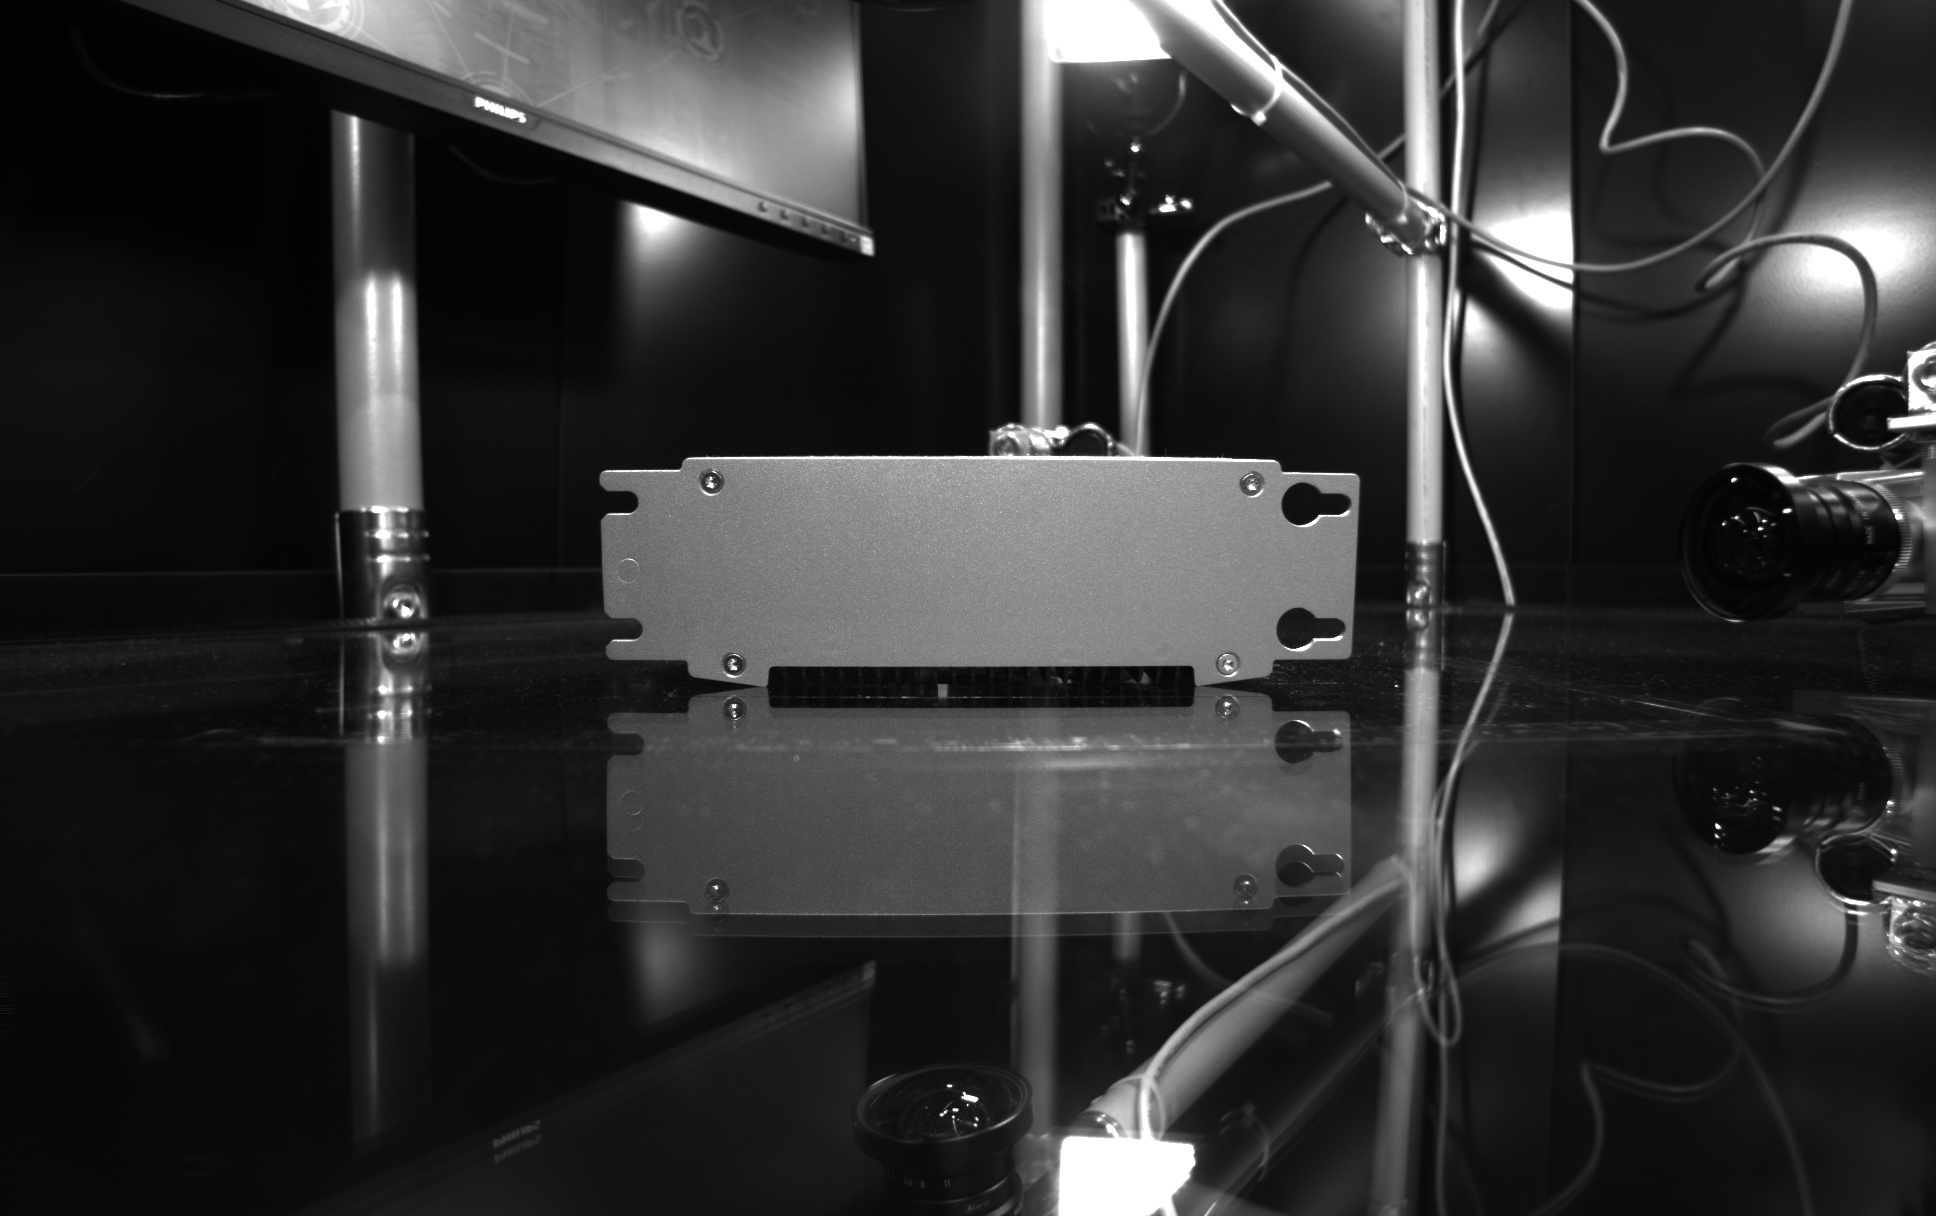CamBack: (573, 429, 1384, 693)
Schraube: (712, 644, 749, 681), (1233, 467, 1268, 500), (1213, 644, 1245, 679), (693, 467, 726, 499)
Schraube_gespiegelt: (714, 693, 756, 749), (696, 873, 737, 929), (1206, 692, 1247, 748), (1224, 871, 1265, 927)
